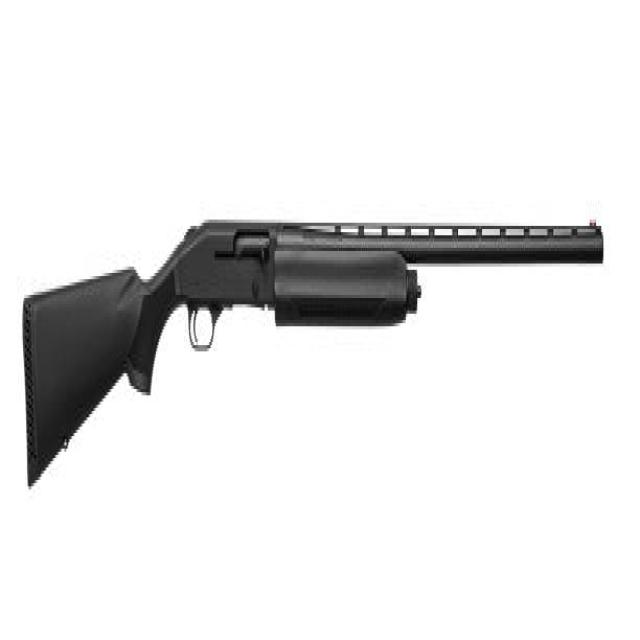rifle: (17, 200, 610, 505)
